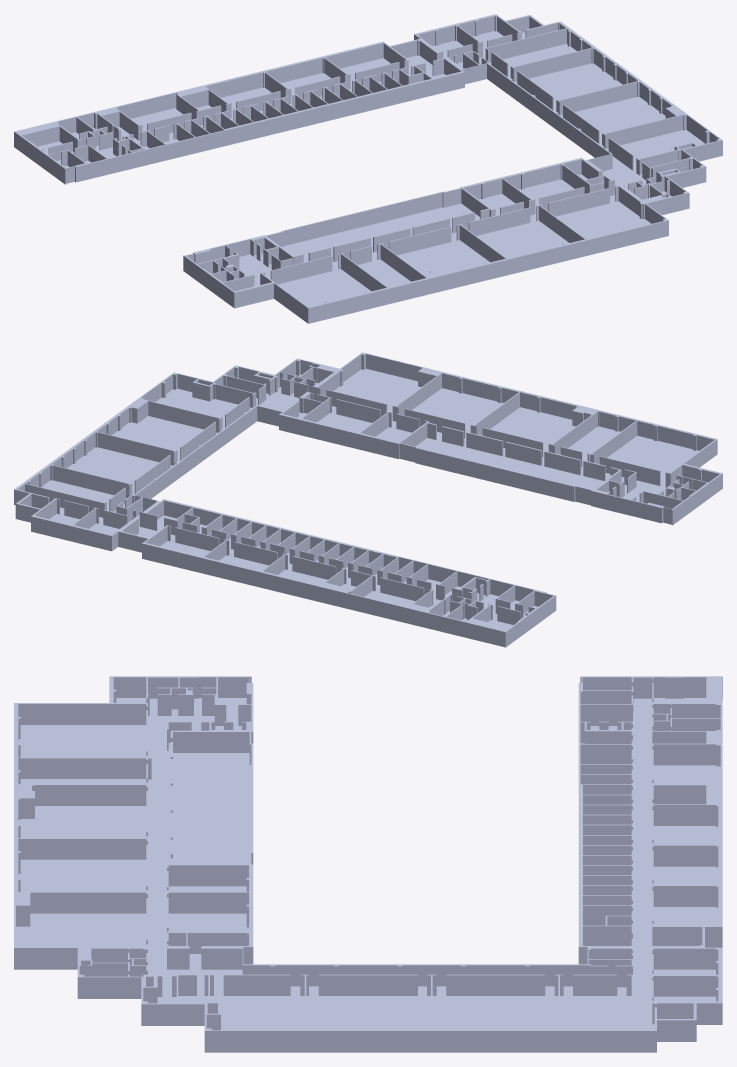
Rendered from fit5.FBX.
3 renders of one model, top to bottom at view 1: azimuth 30°, elevation 25°; view 2: azimuth 150°, elevation 25°; view 3: azimuth 270°, elevation 25°, orthographic. The views are drawn at different scales.
Parts seen in each view (by area): view 1: 凸台-拉伸2; view 2: 凸台-拉伸2; view 3: 凸台-拉伸2.
Part boxes in pixels (x1=…): 凸台-拉伸2: x1=14, y1=14, x2=722, y2=323; 凸台-拉伸2: x1=14, y1=352, x2=722, y2=647; 凸台-拉伸2: x1=14, y1=676, x2=722, y2=1052.
Bounding box in the file's own units: 4157 × 118 × 3510.
